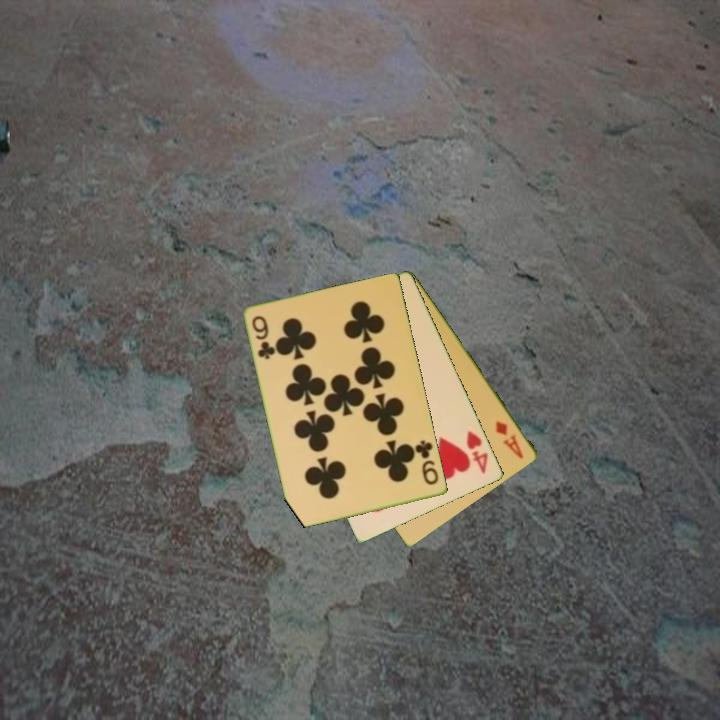4h: (463, 427, 491, 477)
9c: (412, 437, 442, 488), (249, 312, 278, 363)
Ad: (492, 417, 527, 462)
